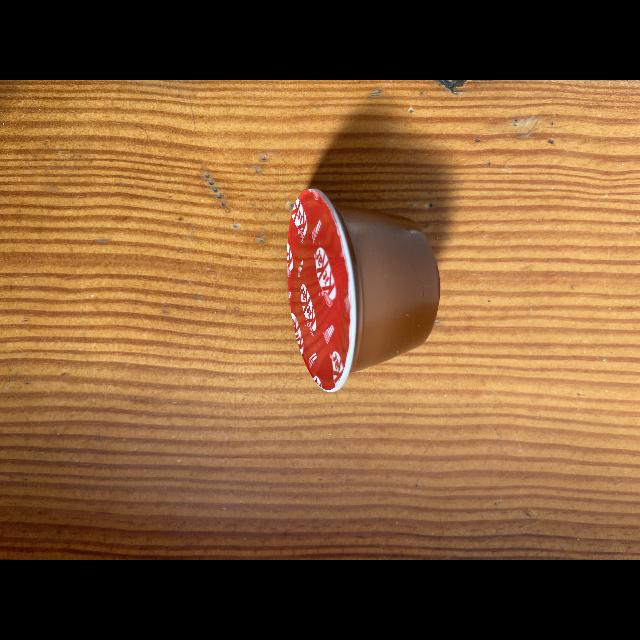intact_capsule: (274, 178, 462, 410)
